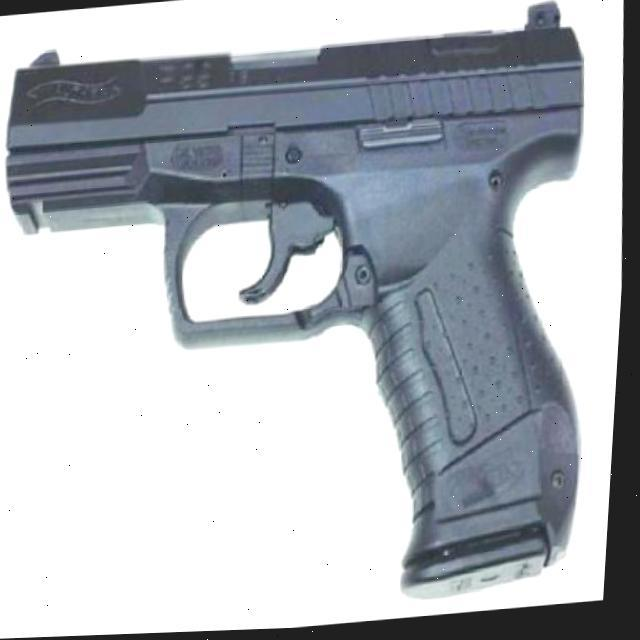gun: (0, 4, 616, 628)
